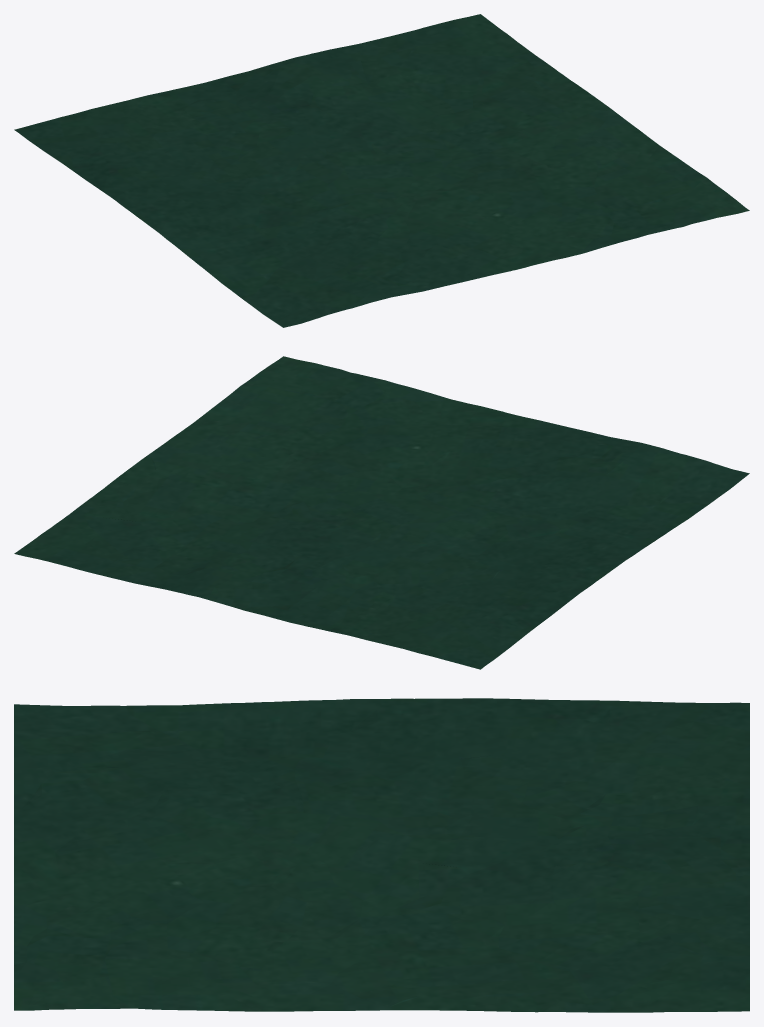
3 renders of one model, top to bottom at view 1: azimuth 30°, elevation 25°; view 2: azimuth 150°, elevation 25°; view 3: azimuth 270°, elevation 25°, orthographic. The views are drawn at different scales.
Bounding box in the file's own units: 104 × 1.4 × 104.
2 materials, 2 textured.
